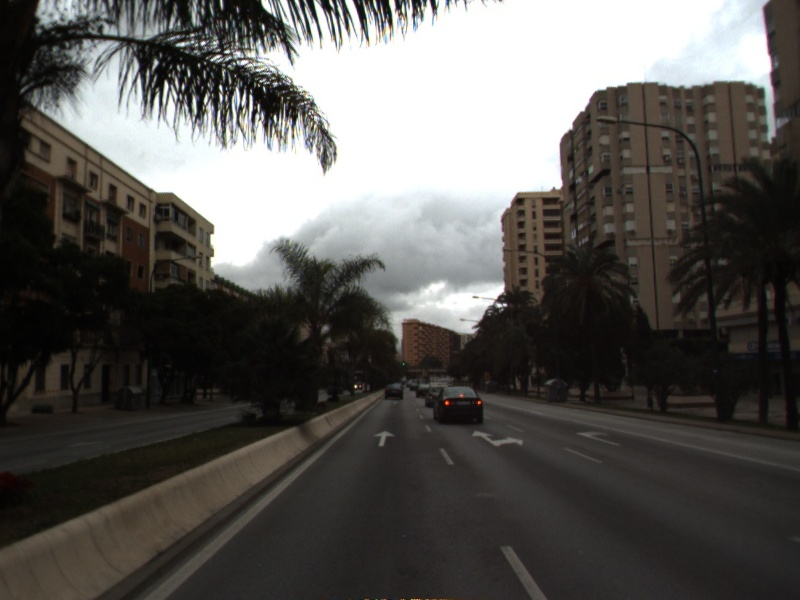RIGHT: (574, 428, 623, 448)
STRAIGHT: (371, 428, 397, 448)
STRAIGHT_RIGHT: (470, 428, 525, 449)
